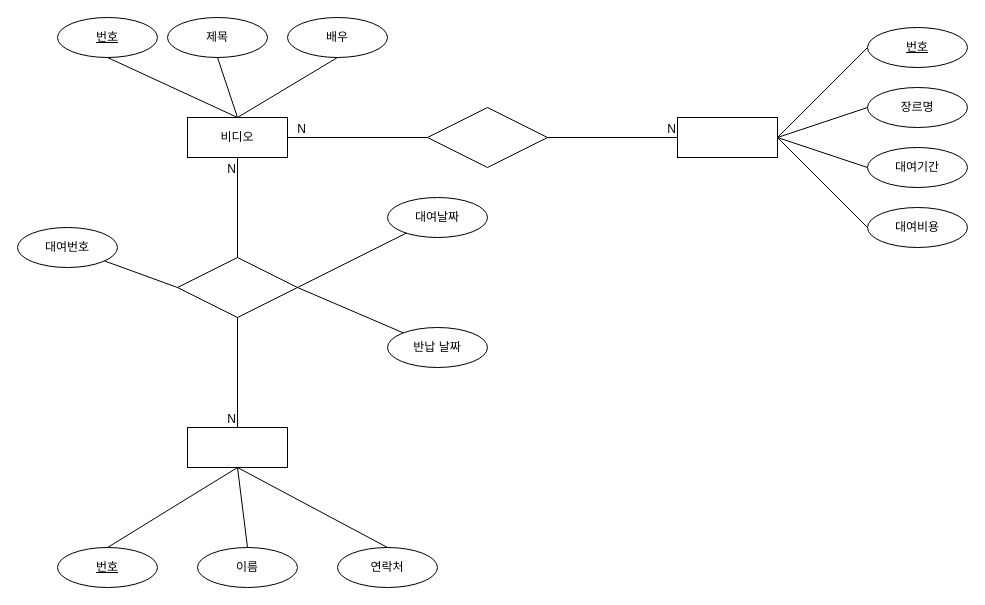
Image size: 985x605. Some labels were removed from this diagram. The shapes that lost their labels are listed below. From the top down, each one's centre as x and y in pixels, then its label:
At (x=487, y=137): "분류".
At (x=727, y=137): "장르".
At (x=237, y=287): "대여".
At (x=237, y=447): "회원".
